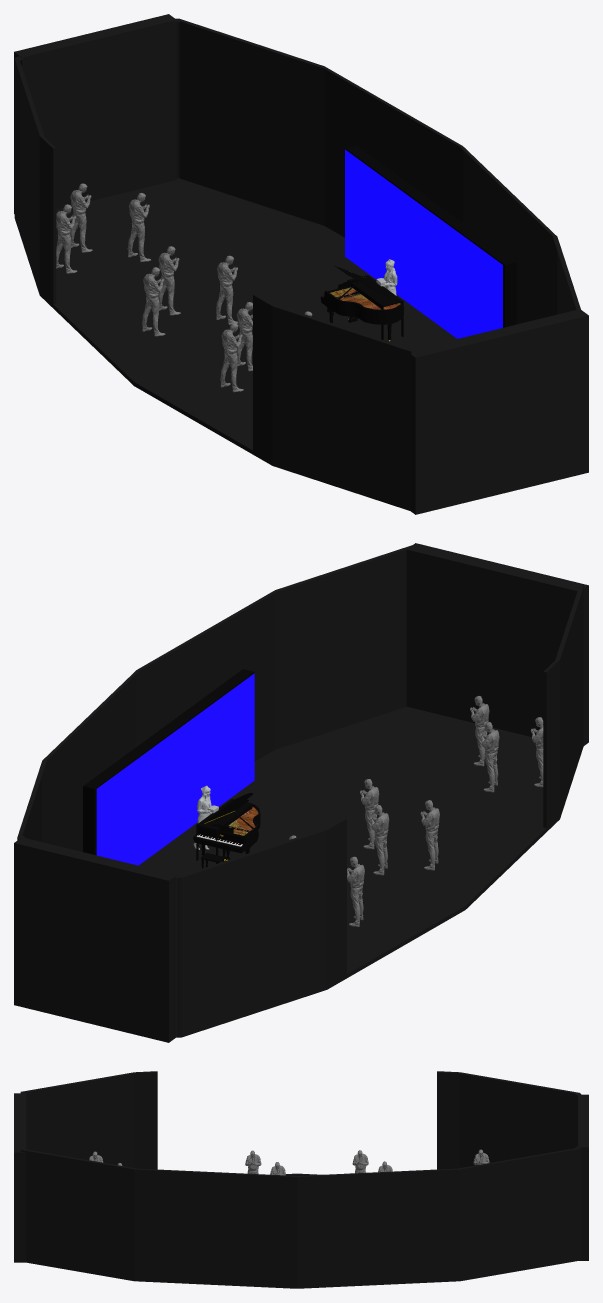
Rendered from ESCENARIO2.glb.
3 views of the same model, one above another, from view 1: azimuth 30°, elevation 25°; view 2: azimuth 150°, elevation 25°; view 3: azimuth 270°, elevation 25° (orthographic). The views are drawn at different scales.
Visible parts, largest first — view 1: Cylinder, Cube.004, Cube, PANTALLA, Lowpoly Smoking Man, Cube.002, polySurface737, mesa; view 2: Cylinder, Cube, Cube.004, PANTALLA, Lowpoly Smoking Man, Cube.002, polySurface737, mesa; view 3: Cylinder, Cube.004, Cube, Lowpoly Smoking Man.
Part boxes in pixels (box(x1,y1,x2,y2)): Cylinder: box(14, 18, 581, 510); Cube.004: box(410, 310, 588, 514); Cube: box(14, 14, 176, 213); PANTALLA: box(345, 149, 502, 338); Lowpoly Smoking Man: box(56, 183, 312, 392); Cube.002: box(345, 145, 516, 327); polySurface737: box(320, 266, 403, 339); mesa: box(347, 275, 403, 339); Cylinder: box(17, 544, 583, 1037); Cube: box(14, 837, 176, 1042); Cube.004: box(406, 543, 588, 745); PANTALLA: box(96, 673, 254, 865); Lowpoly Smoking Man: box(289, 696, 543, 926); Cube.002: box(83, 669, 254, 855); polySurface737: box(193, 793, 260, 860); mesa: box(196, 799, 252, 863); Cylinder: box(20, 1071, 581, 1288); Cube.004: box(14, 1093, 26, 1262); Cube: box(578, 1094, 588, 1260); Lowpoly Smoking Man: box(89, 1149, 489, 1175).
Bounding box in the file's own units: 9.62 × 4.53 × 20.8.
15 materials, 2 textured.
